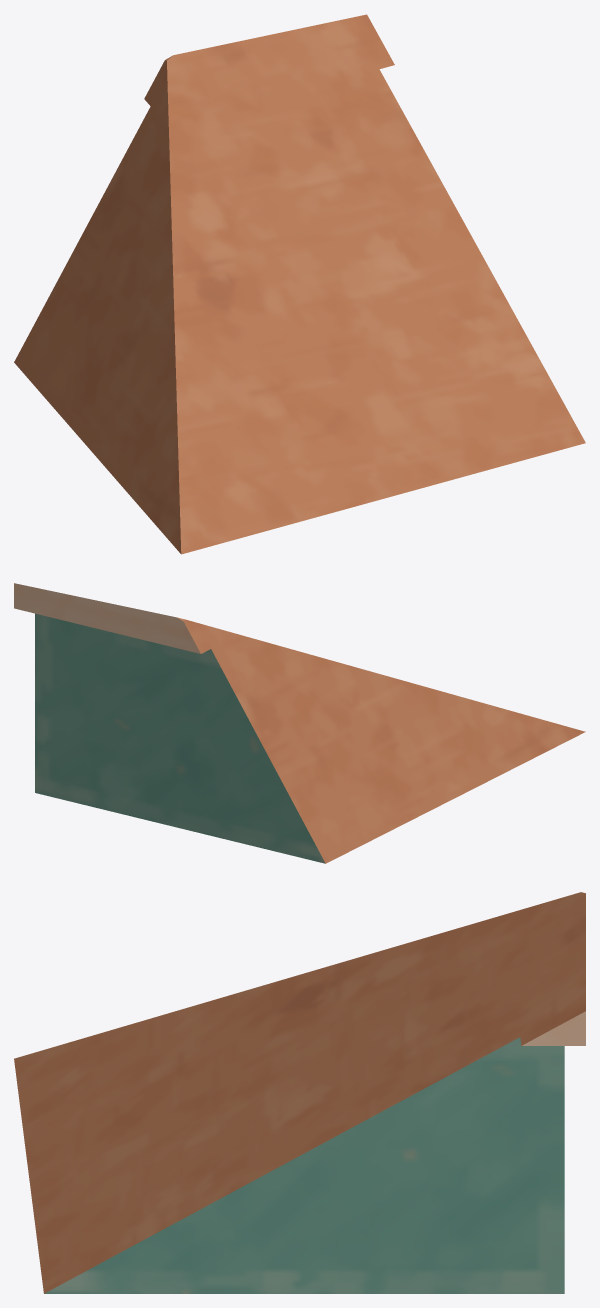
Rendered from tree_s01.fbx.
3 views of the same model, one above another, from view 1: azimuth 30°, elevation 25°; view 2: azimuth 150°, elevation 25°; view 3: azimuth 270°, elevation 25° (orthographic). The views are drawn at different scales.
Visible parts, largest first — view 1: tree_s01; view 2: tree_s01; view 3: tree_s01.
Boxes of the visible parts, x1=… form: tree_s01: x1=14, y1=14, x2=585, y2=554; tree_s01: x1=14, y1=583, x2=585, y2=863; tree_s01: x1=14, y1=892, x2=585, y2=1293.
Bounding box in the file's own units: 3.26 × 1.86 × 3.23.
